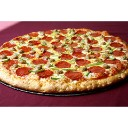pepperonipizza: (1, 28, 126, 90)
